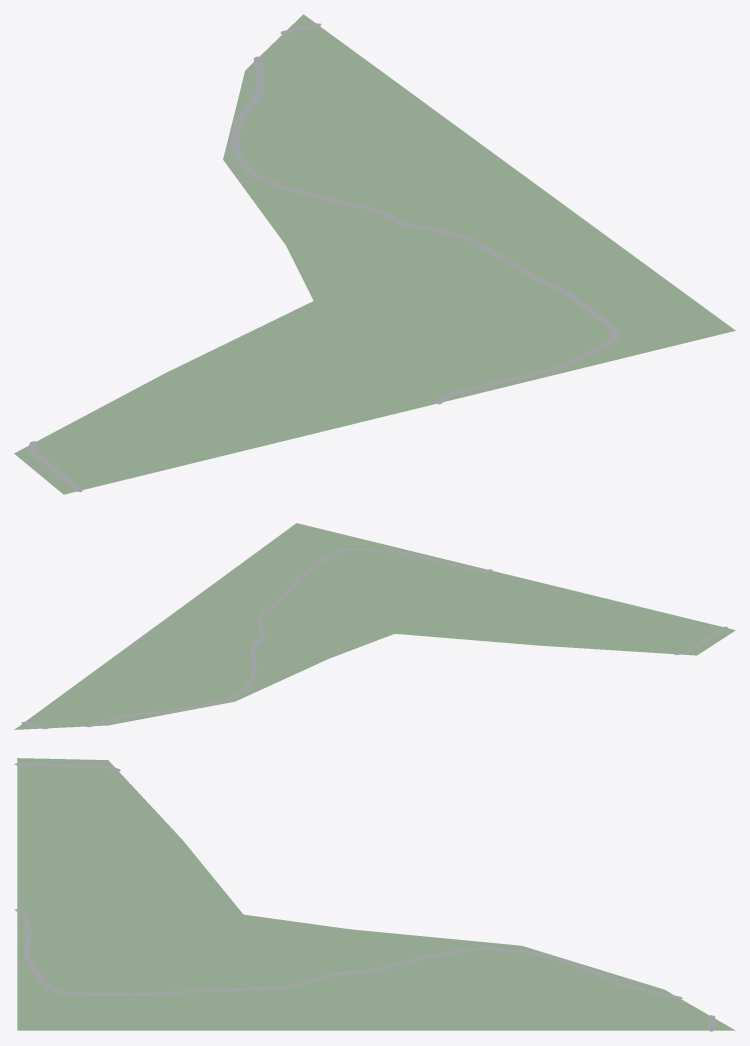
Rendered from 3_6-known-coarse.glb.
3 views of the same model, one above another, from view 1: azimuth 30°, elevation 25°; view 2: azimuth 150°, elevation 25°; view 3: azimuth 270°, elevation 25° (orthographic). The views are drawn at different scales.
Bounding box in the file's own units: 286 × 0.1 × 318.
